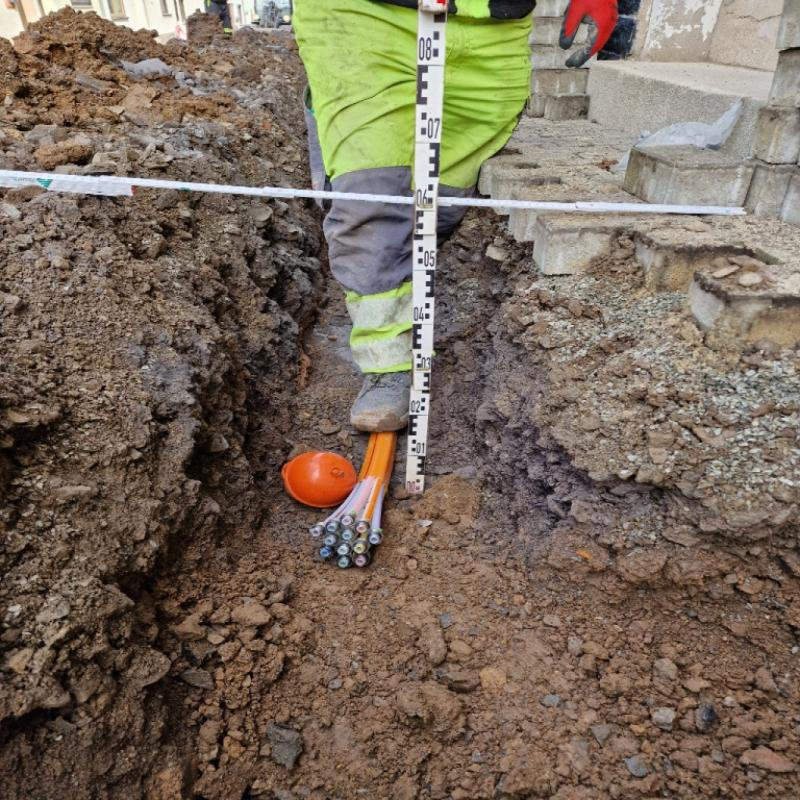Kugelmarker: (280, 451, 356, 507)
Orang-Speednetrohrchen: (310, 433, 396, 570)
